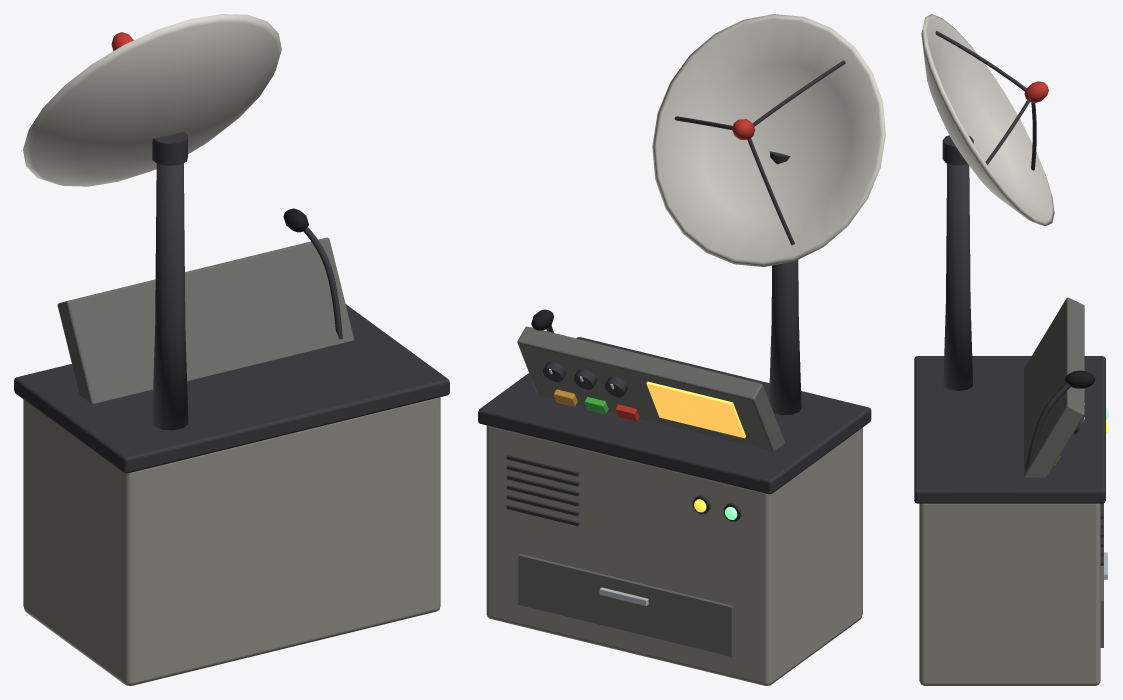
File: station_A.glb
The picture shows the model from 3 angles, left to right: view 1: azimuth 30°, elevation 25°; view 2: azimuth 150°, elevation 25°; view 3: azimuth 270°, elevation 25°; orthographic projection. The views are drawn at different scales.
Parts seen in each view (by area): view 1: cabinet, station_A_graph, dish, bezel, yoke; view 2: cabinet, dish, station_A_graph, bezel, drawer, screen, dish_tilt_graph, panel_graph; view 3: cabinet, station_A_graph, dish, bezel, dish_tilt_graph, yoke, mic, feed, drawer.
Boxes of the visible parts, x1=… form: cabinet: x1=23, y1=397, x2=440, y2=685; station_A_graph: x1=14, y1=163, x2=449, y2=473; dish: x1=23, y1=14, x2=281, y2=186; bezel: x1=57, y1=237, x2=354, y2=403; yoke: x1=152, y1=131, x2=187, y2=165; cabinet: x1=486, y1=425, x2=862, y2=685; dish: x1=652, y1=14, x2=885, y2=266; station_A_graph: x1=478, y1=260, x2=871, y2=526; bezel: x1=517, y1=326, x2=784, y2=451; drawer: x1=518, y1=554, x2=733, y2=656; screen: x1=646, y1=381, x2=745, y2=438; dish_tilt_graph: x1=674, y1=60, x2=845, y2=245; panel_graph: x1=543, y1=361, x2=627, y2=397; cabinet: x1=919, y1=503, x2=1100, y2=685; station_A_graph: x1=914, y1=163, x2=1105, y2=565; dish: x1=921, y1=14, x2=1054, y2=226; bezel: x1=1024, y1=297, x2=1084, y2=477; dish_tilt_graph: x1=935, y1=30, x2=1036, y2=170; yoke: x1=942, y1=135, x2=973, y2=165; mic: x1=1064, y1=370, x2=1095, y2=388; feed: x1=1024, y1=81, x2=1048, y2=102; drawer: x1=1100, y1=503, x2=1103, y2=647.
Bounding box in the file's own units: 1.44 × 2.37 × 0.751.
